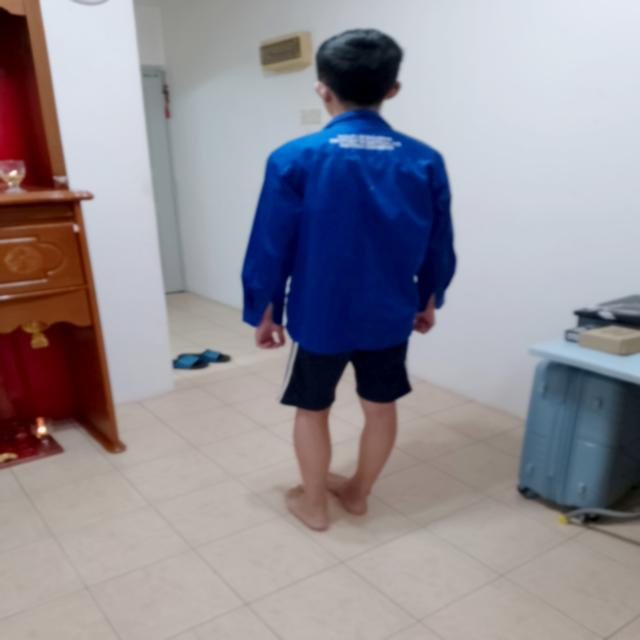person_with_labcoat: (242, 29, 456, 531)
